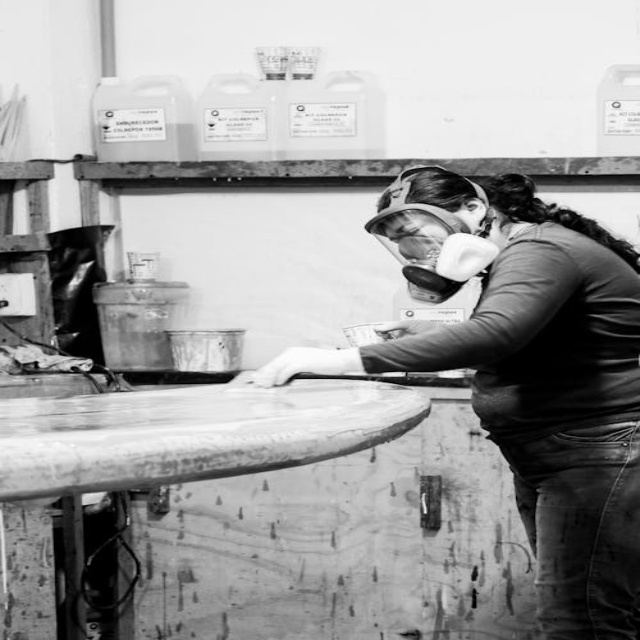Guantes: (246, 345, 362, 389)
Mascara: (366, 166, 491, 301)
